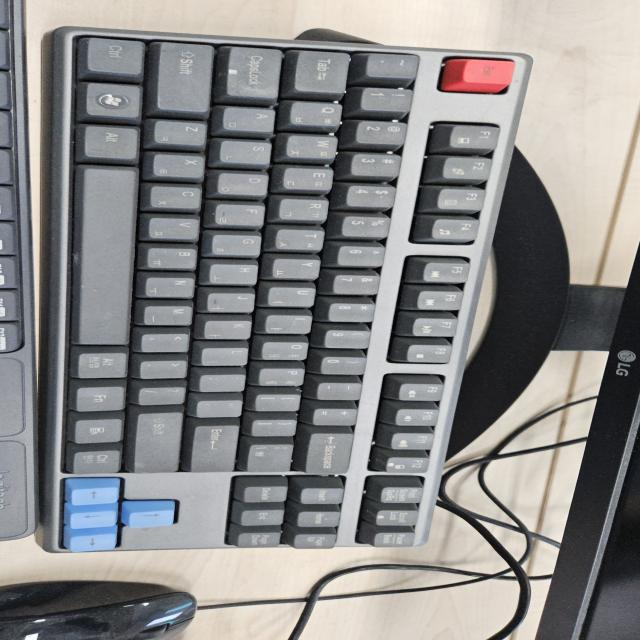Keyboard: (20, 21, 533, 553)
Mouse: (2, 578, 200, 638)
